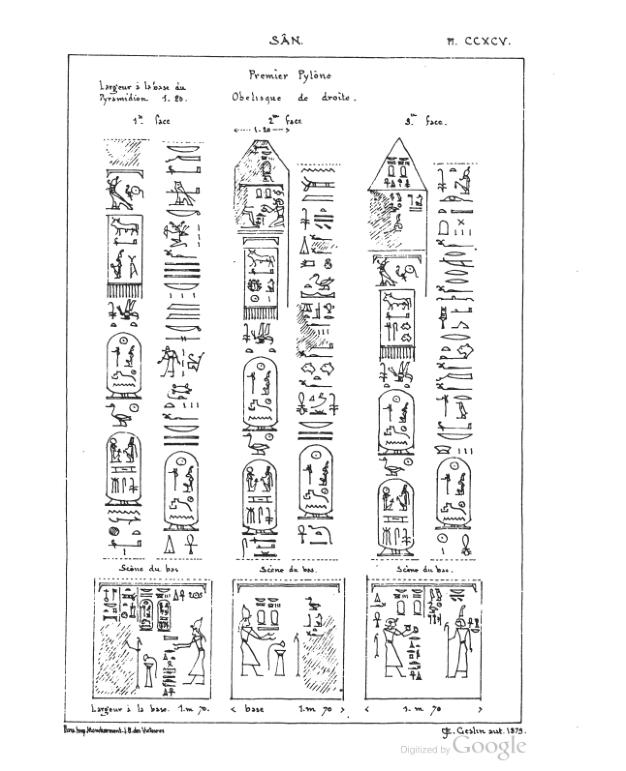circle: (291, 439, 338, 521), (159, 449, 204, 534), (372, 473, 417, 558), (234, 457, 281, 538), (434, 458, 481, 533), (99, 328, 146, 402), (101, 428, 144, 508), (373, 387, 418, 461), (240, 353, 281, 433)
